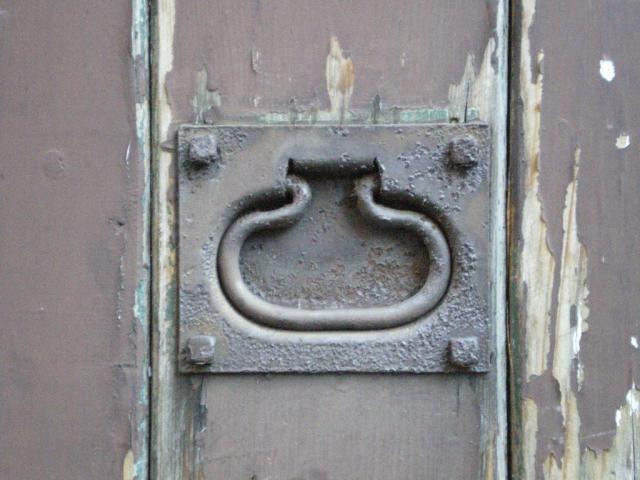Door-handle: (170, 117, 493, 379)
